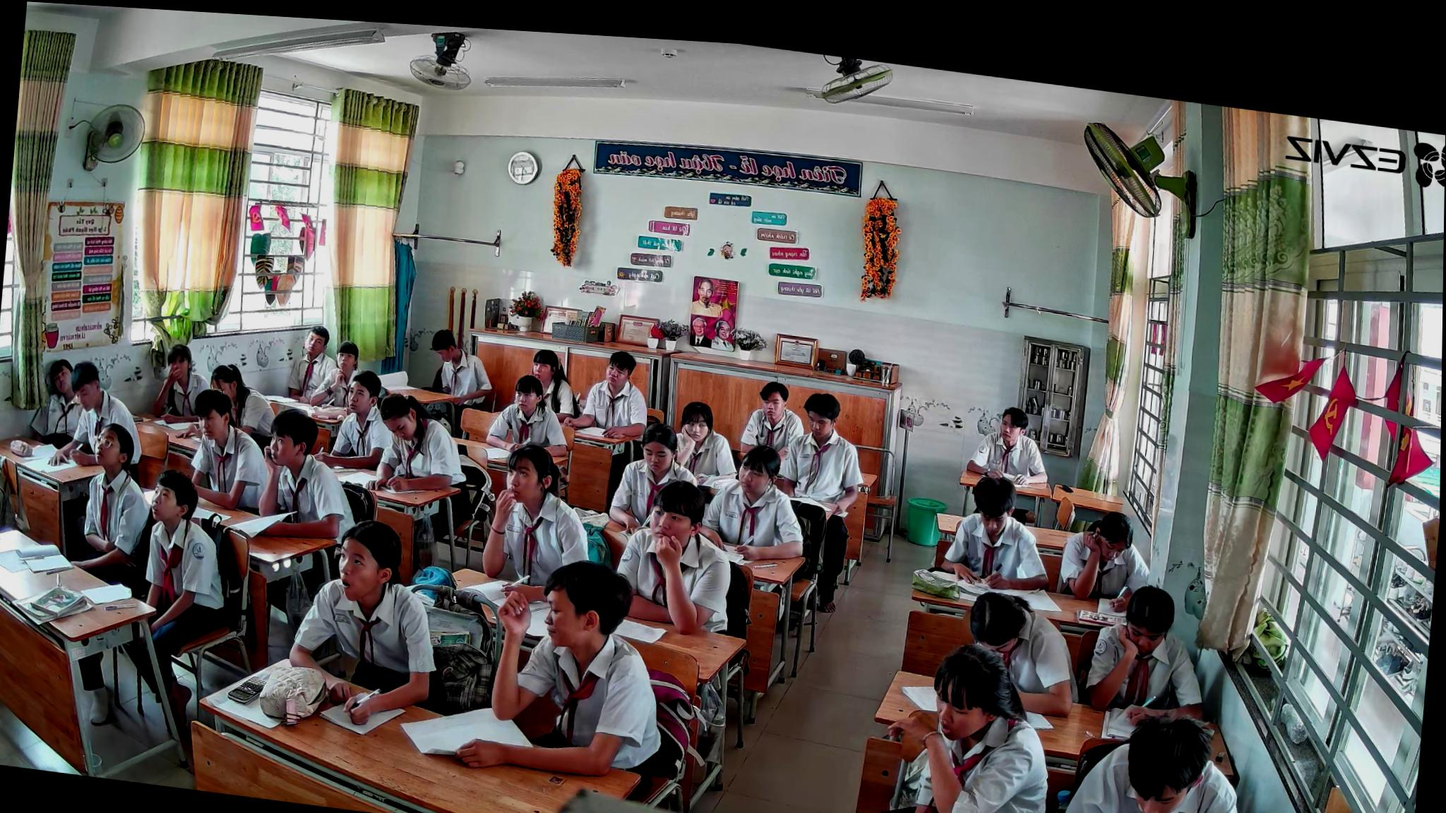person: (450, 545, 677, 794), (818, 625, 1061, 813), (280, 510, 451, 737), (125, 465, 237, 743), (242, 404, 361, 664), (764, 387, 870, 617), (1048, 699, 1251, 813), (475, 439, 601, 619), (610, 472, 740, 641), (1081, 578, 1213, 741), (359, 390, 471, 561), (67, 418, 163, 601), (960, 589, 1084, 720), (697, 436, 813, 574), (940, 471, 1059, 597), (171, 385, 278, 514), (605, 416, 703, 544), (46, 357, 148, 477), (1055, 504, 1155, 618), (312, 365, 399, 475), (564, 344, 653, 441), (482, 370, 573, 461), (964, 401, 1054, 490), (671, 399, 745, 495), (737, 377, 808, 470), (26, 356, 92, 454), (205, 362, 278, 447), (426, 328, 497, 410), (149, 341, 213, 428), (302, 336, 365, 415), (287, 323, 339, 406), (523, 347, 579, 420)
